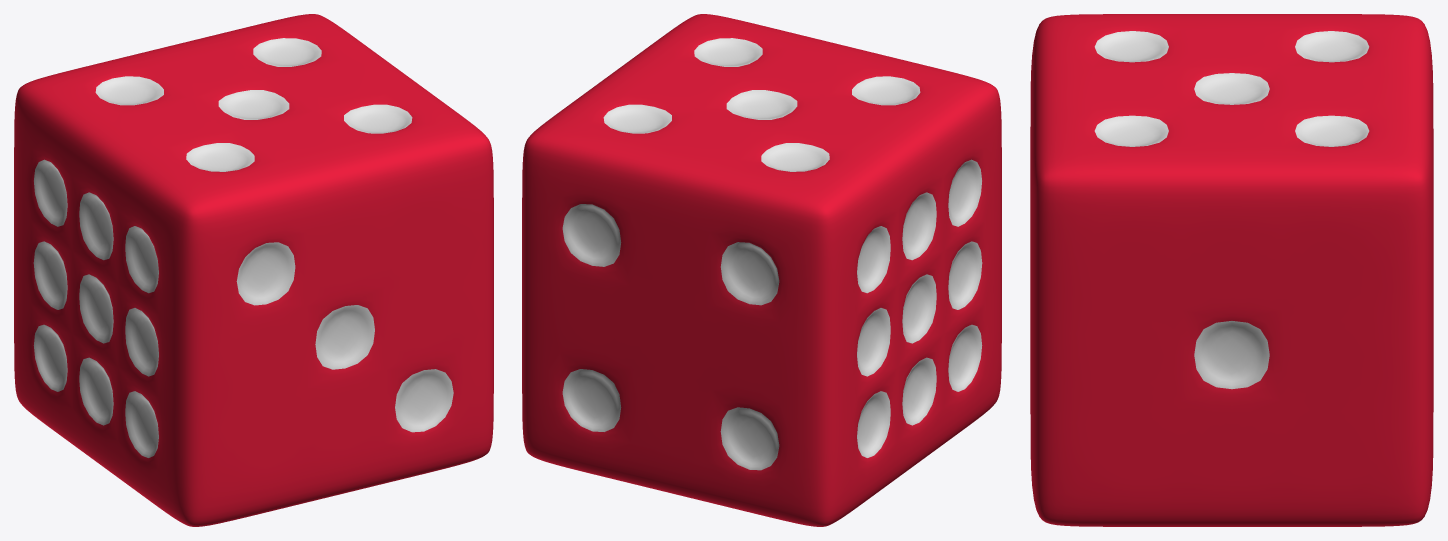
The model's file is dice.fbx.
3 views of the same model, side by side, from view 1: azimuth 30°, elevation 25°; view 2: azimuth 150°, elevation 25°; view 3: azimuth 270°, elevation 25° (orthographic). The views are drawn at different scales.
Parts seen in each view (by area): view 1: Cube; view 2: Cube; view 3: Cube.
Part boxes in pixels (x1,y1,x2,y2): Cube: [14, 14, 493, 526]; Cube: [522, 14, 1001, 526]; Cube: [1030, 14, 1433, 526].
Size of the model in its own units: 200 by 200 by 200.
